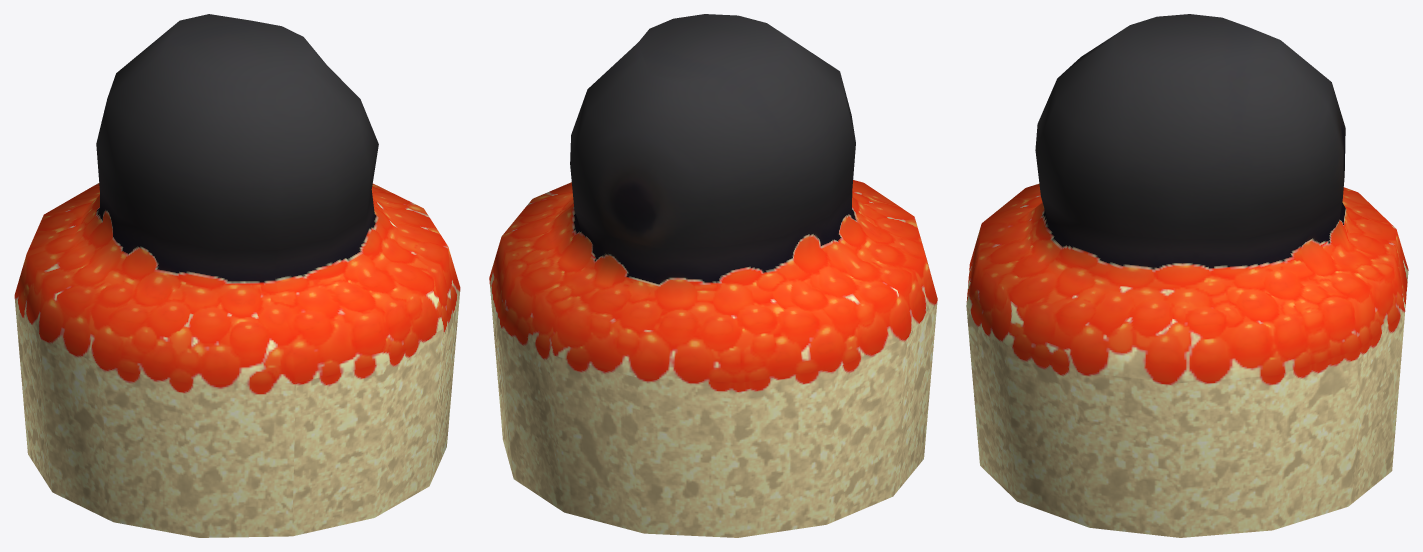
File: BuffetSnacks03_6.FBX
3 renders of one model, left to right at view 1: azimuth 30°, elevation 25°; view 2: azimuth 150°, elevation 25°; view 3: azimuth 270°, elevation 25°, orthographic.
Parts seen in each view (by area): view 1: BuffetSnacks03_6; view 2: BuffetSnacks03_6; view 3: BuffetSnacks03_6.
Part boxes in pixels (bbox=[...]): BuffetSnacks03_6: bbox=[14, 14, 460, 537]; BuffetSnacks03_6: bbox=[489, 14, 937, 537]; BuffetSnacks03_6: bbox=[966, 14, 1408, 537].
Size of what is drawn, in the model's own units: 0.0985 by 0.0973 by 0.0968.
